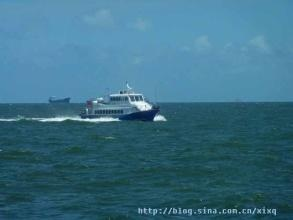otherboat: (81, 82, 166, 125)
